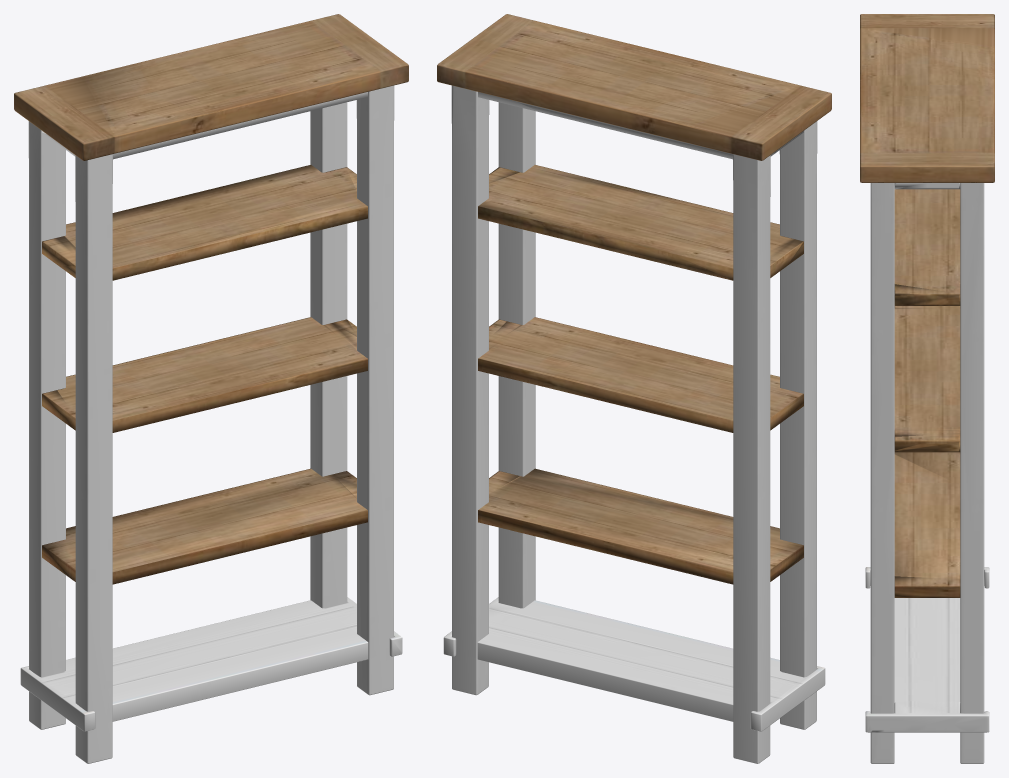
3 renders of one model, left to right at view 1: azimuth 30°, elevation 25°; view 2: azimuth 150°, elevation 25°; view 3: azimuth 270°, elevation 25°, orthographic. The views are drawn at different scales.
Parts seen in each view (by area): view 1: RootNode; view 2: RootNode; view 3: RootNode.
Part boxes in pixels (<box>): RootNode: <box>14,14,408,763</box>; RootNode: <box>437,14,831,763</box>; RootNode: <box>860,14,994,763</box>.
Bounding box in the file's own units: 1.02 × 1.88 × 0.3815.
1 material, 1 textured.
